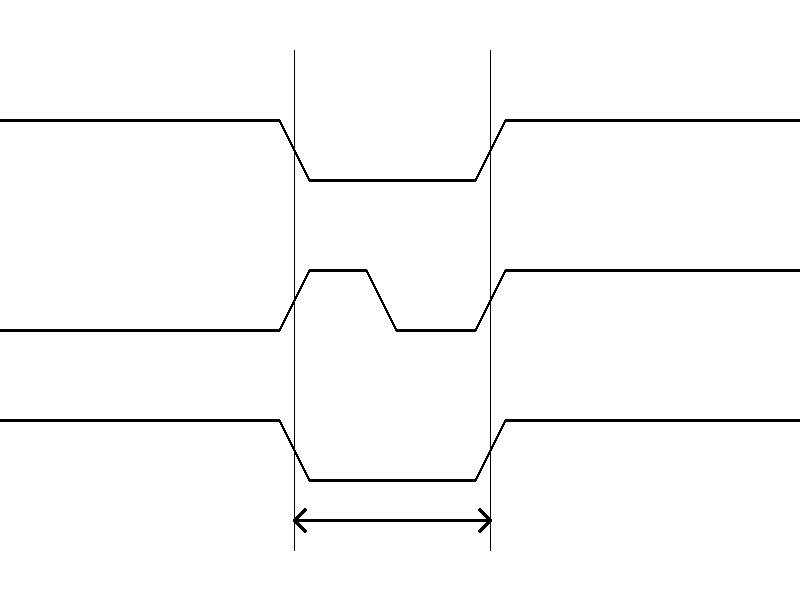double_arrow: (294, 505, 490, 535)
